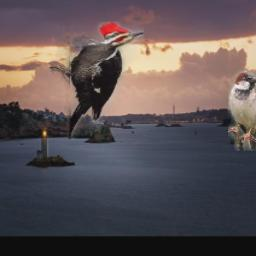Sparrow: (229, 70, 256, 151)
Woodpecker: (50, 22, 144, 140)
